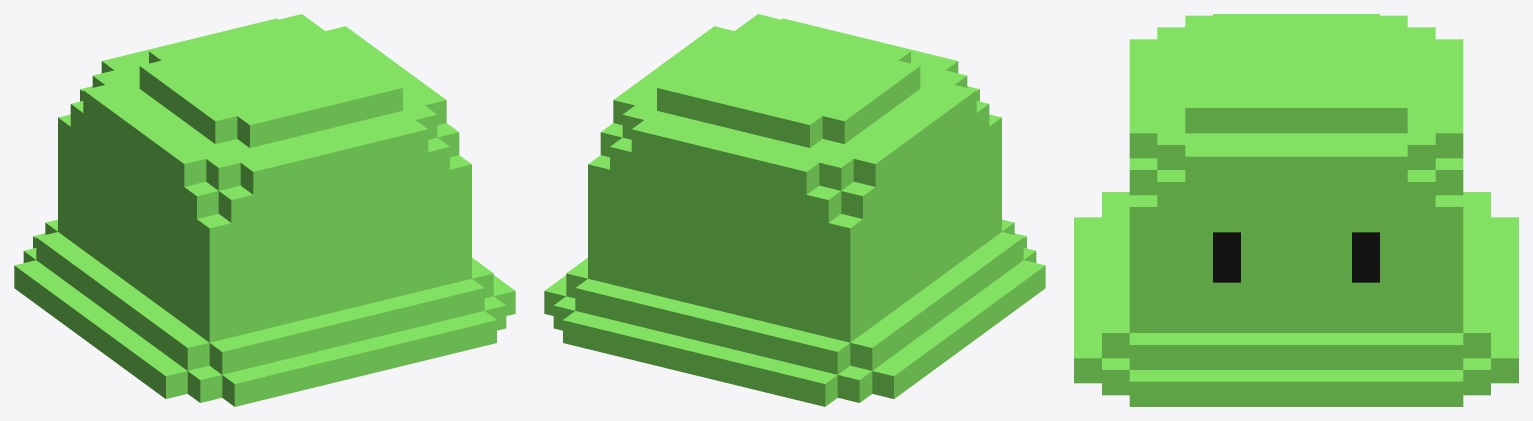
File: 슬라임.obj
3 views of the same model, side by side, from view 1: azimuth 30°, elevation 25°; view 2: azimuth 150°, elevation 25°; view 3: azimuth 270°, elevation 25° (orthographic). The views are drawn at different scales.
Size of the model in its own units: 1.6 by 1 by 1.6.
1 material, 1 textured.
